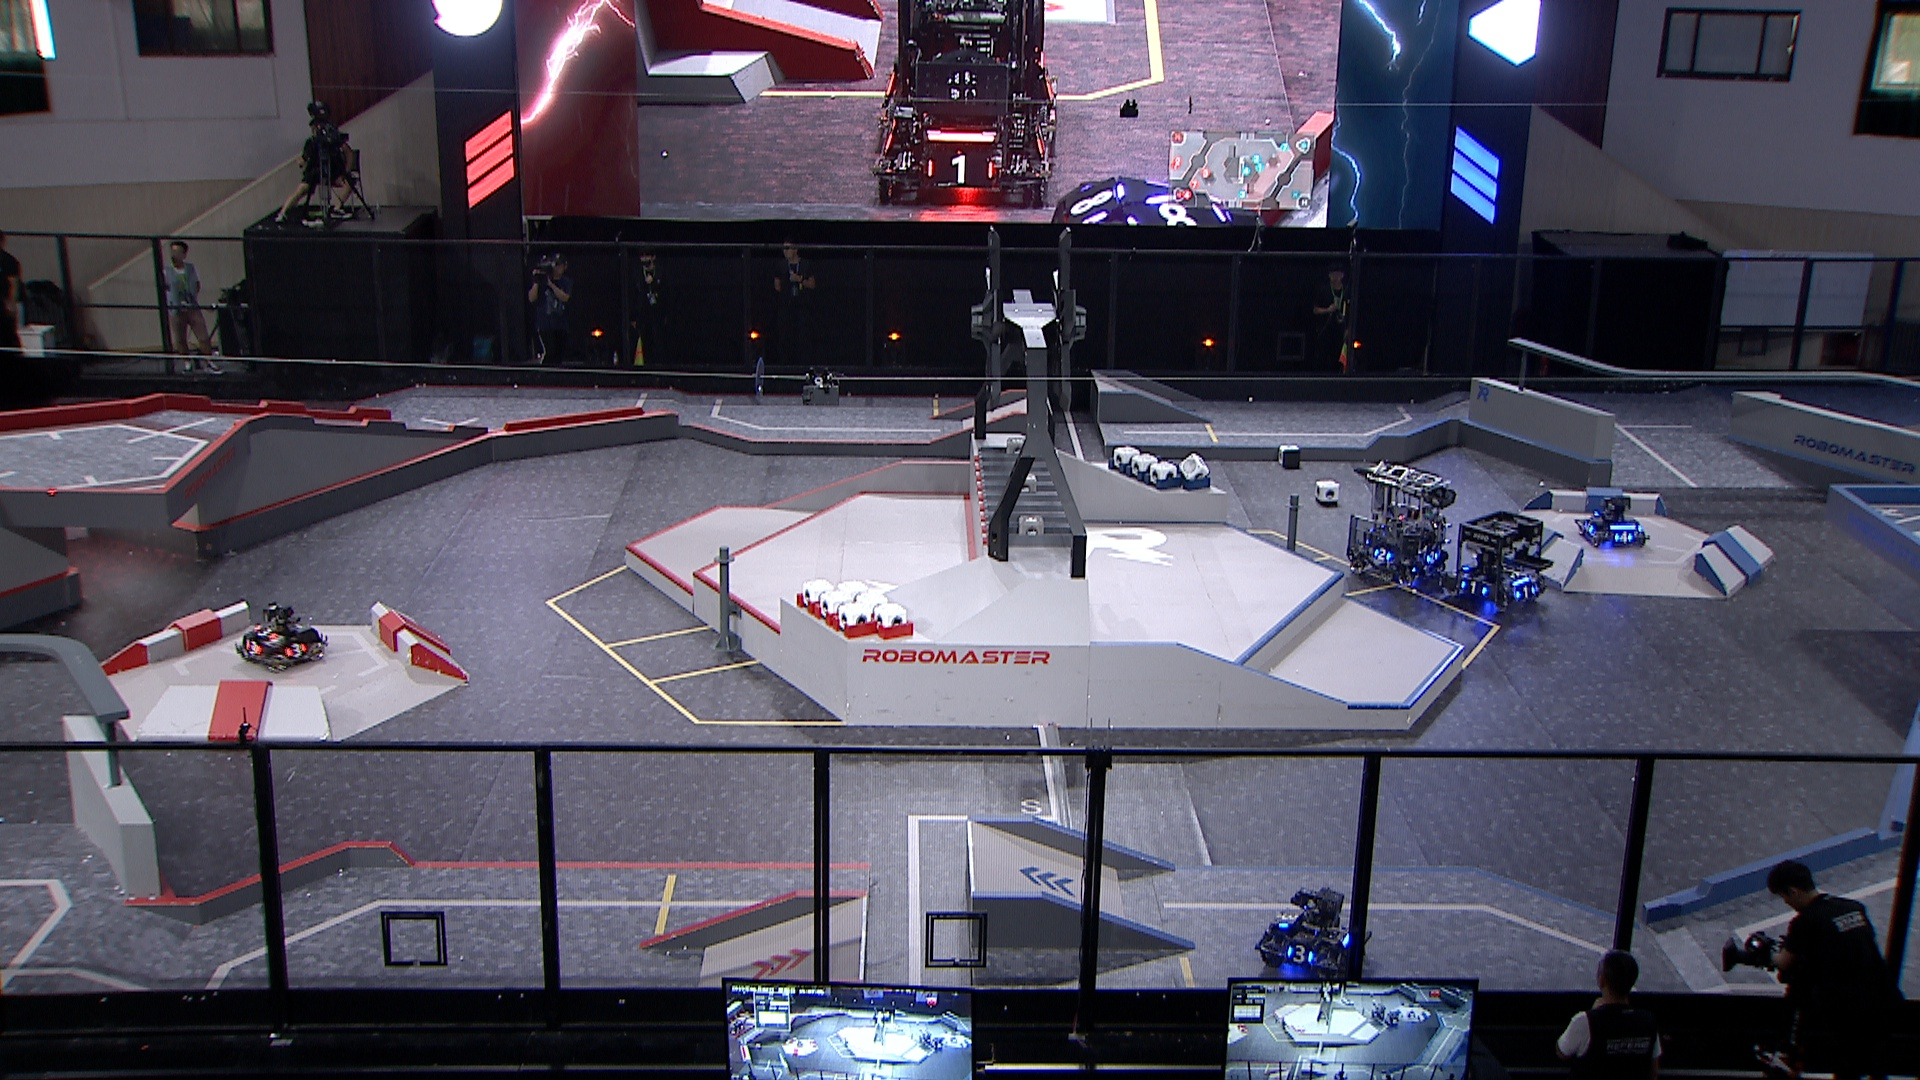armor: (1284, 944, 1316, 965), (1458, 579, 1487, 595), (1276, 911, 1299, 931), (1513, 585, 1538, 603), (284, 642, 309, 659), (255, 622, 278, 640), (1371, 547, 1393, 564), (1423, 547, 1441, 566), (244, 637, 262, 655), (1611, 531, 1633, 545), (1581, 520, 1596, 533)
car: (1344, 458, 1458, 588), (1250, 885, 1371, 984), (1447, 509, 1551, 613), (231, 603, 328, 673), (1575, 495, 1650, 547)
ignore: (1048, 171, 1251, 229)
